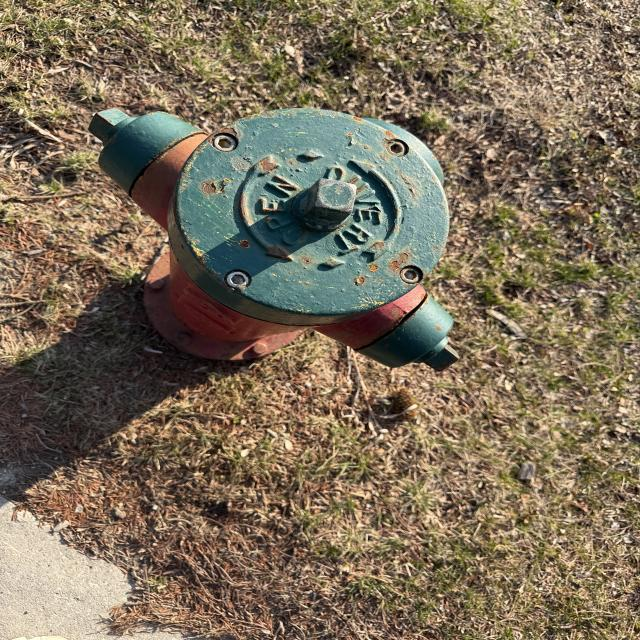Fire hydrant: (88, 108, 460, 372)
